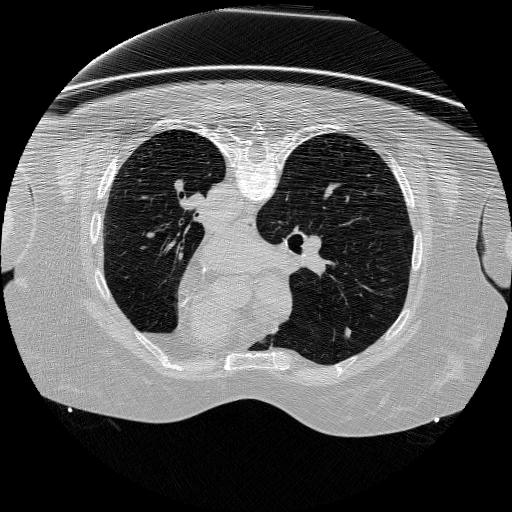nodule: (343, 326, 356, 339)
